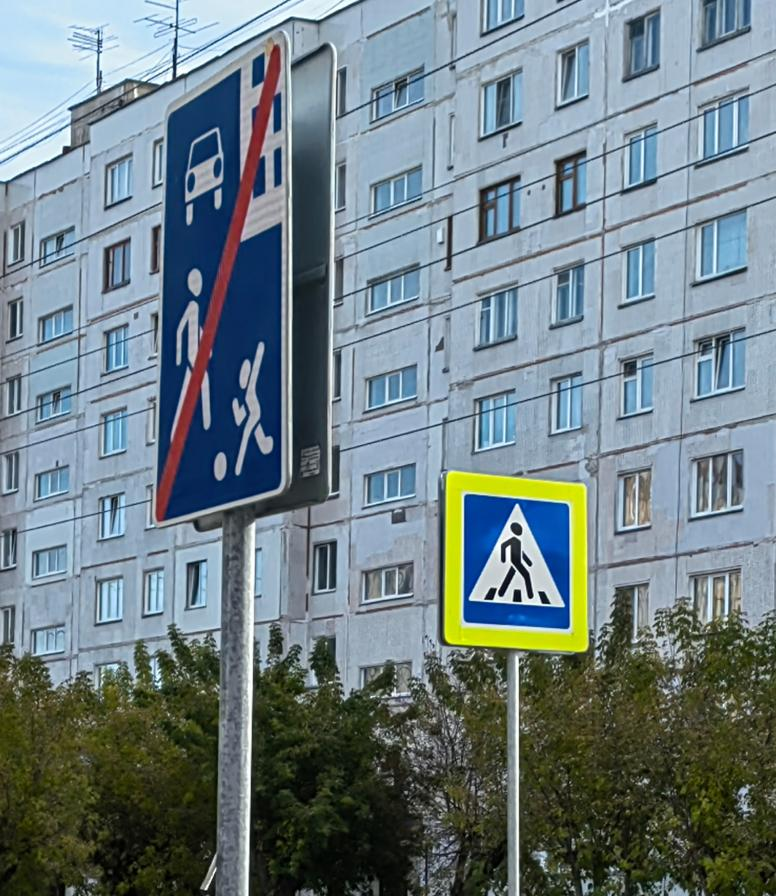road_sign: (155, 31, 294, 525), (443, 472, 587, 650)
